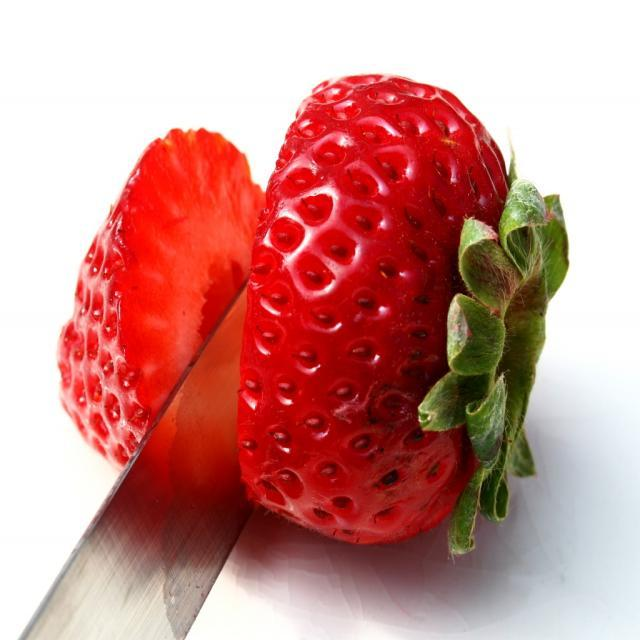Strawberry: (237, 59, 542, 550), (57, 120, 259, 476)
